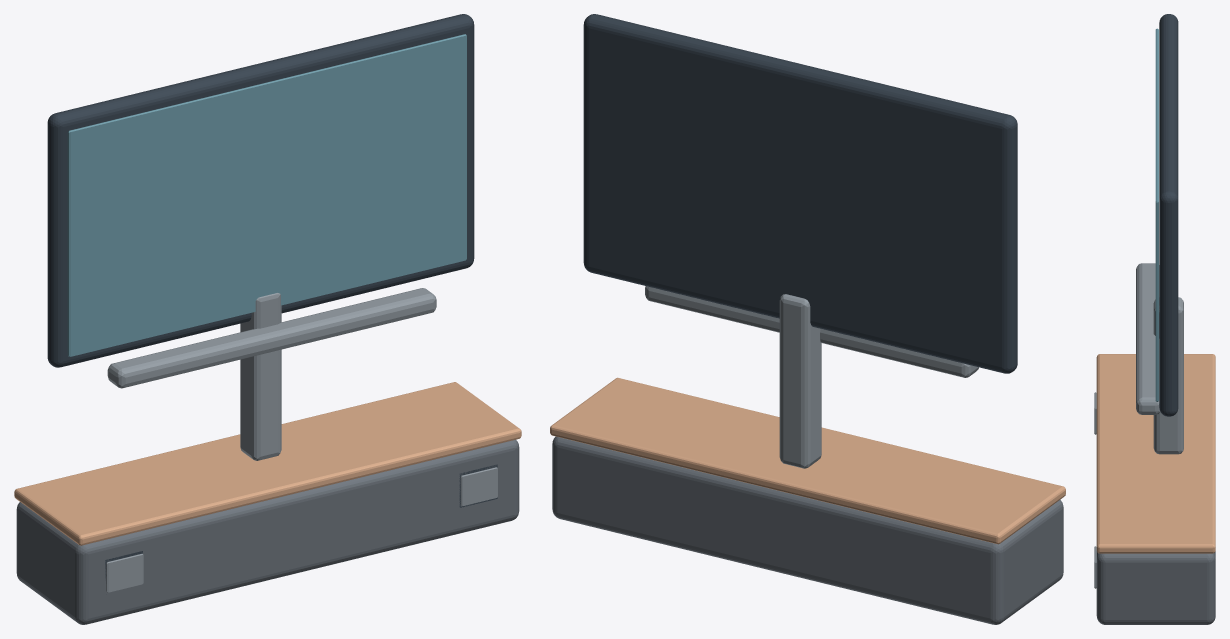
Rendered from media_screen_stand.glb.
3 renders of one model, left to right at view 1: azimuth 30°, elevation 25°; view 2: azimuth 150°, elevation 25°; view 3: azimuth 270°, elevation 25°, orthographic. The views are drawn at different scales.
Visible parts, largest first — view 1: video_surface_005, shell_001, shell_002, shell_004, shell_006, shell_003, shell_010, shell_008; view 2: shell_004, shell_001, shell_002, shell_003, shell_006; view 3: shell_002, shell_001, shell_004, shell_006, shell_003, video_surface_005.
Part boxes in pixels (<box>): video_surface_005: <box>67,34,466,356</box>; shell_001: <box>16,439,519,624</box>; shell_002: <box>14,382,521,545</box>; shell_004: <box>47,14,474,367</box>; shell_006: <box>107,288,436,388</box>; shell_003: <box>240,293,281,460</box>; shell_010: <box>460,467,497,506</box>; shell_008: <box>106,553,143,592</box>; shell_004: <box>583,14,1017,373</box>; shell_001: <box>552,436,1063,624</box>; shell_002: <box>550,377,1065,544</box>; shell_003: <box>779,294,821,468</box>; shell_006: <box>645,286,978,377</box>; shell_002: <box>1096,354,1215,553</box>; shell_001: <box>1096,551,1215,624</box>; shell_004: <box>1159,14,1178,416</box>; shell_006: <box>1136,263,1160,414</box>; shell_003: <box>1153,297,1183,454</box>; video_surface_005: <box>1155,28,1158,401</box>.
Bounding box in the file's own units: 1.8 × 1.87 × 0.4801.
